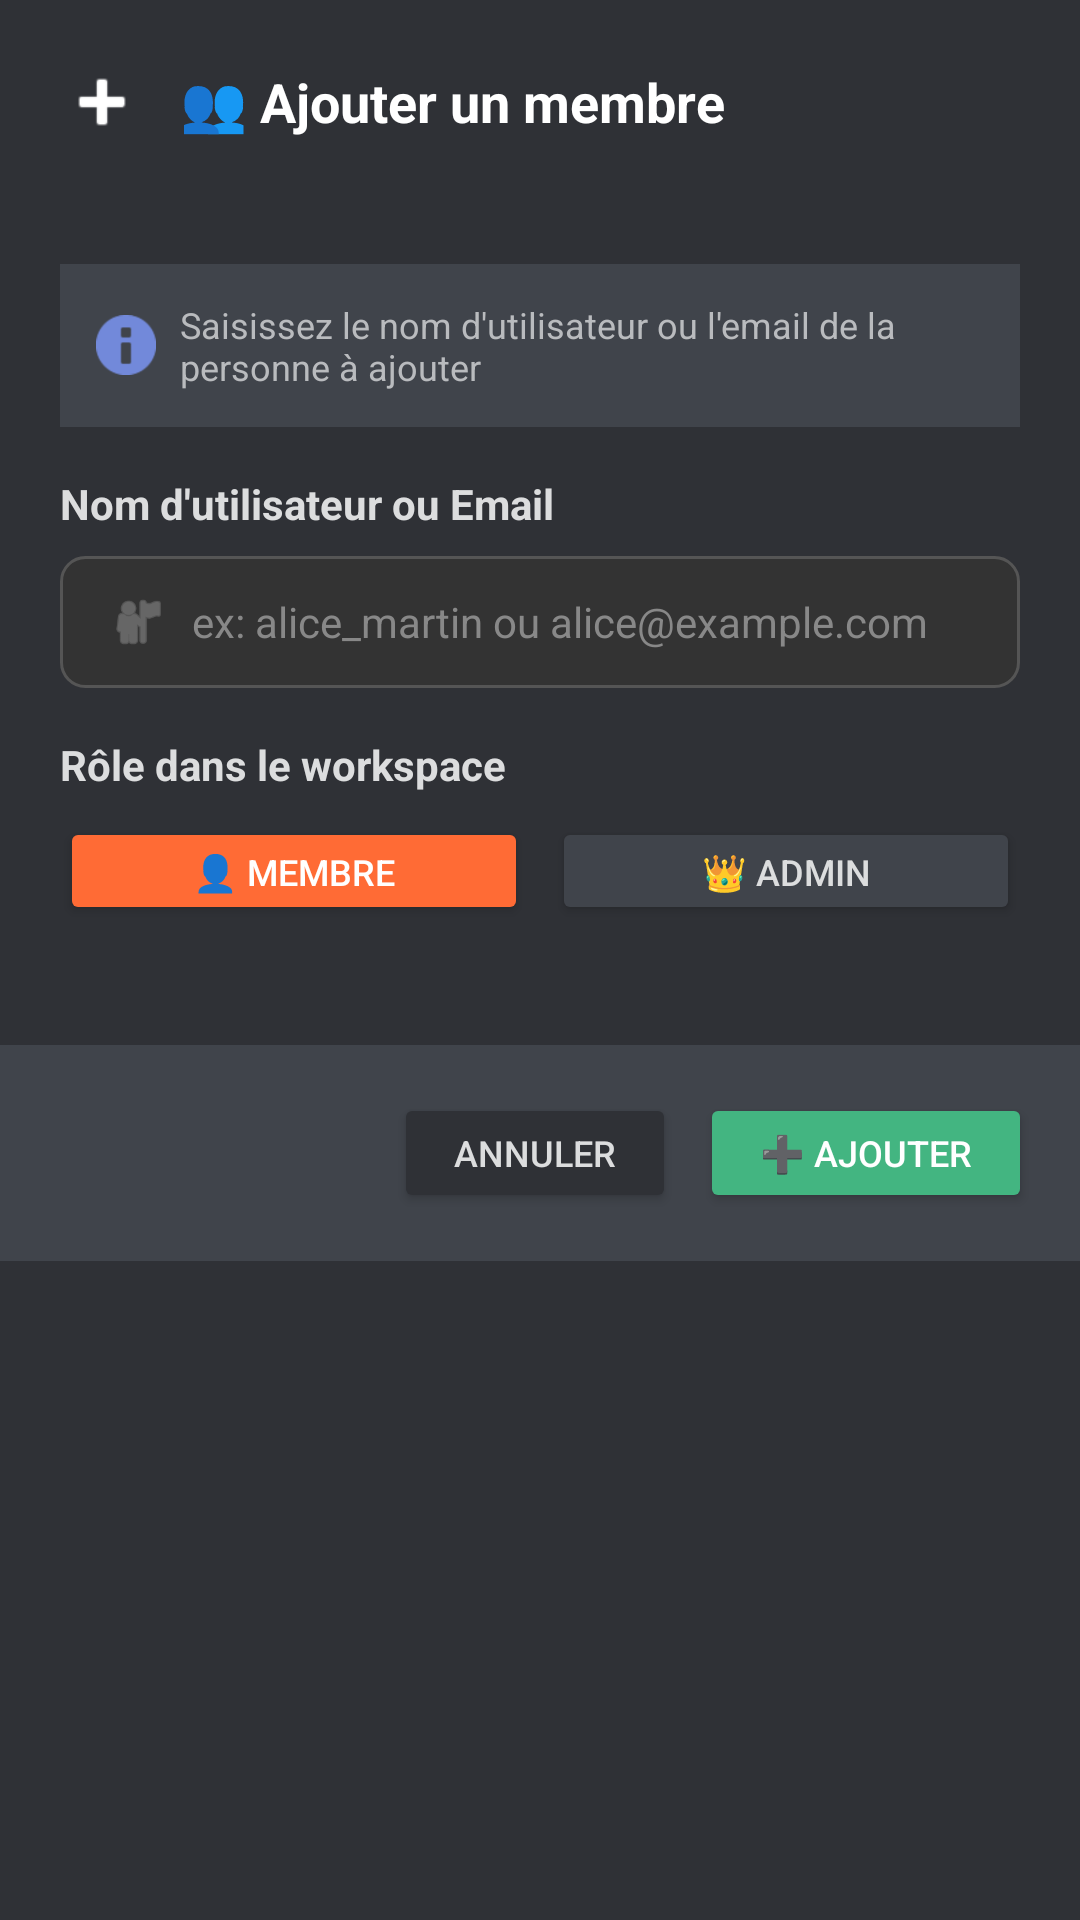

Point at icon controls on the screen. Image size 1080w x 1920h, points as (x,y).
add: (102,102)
info: (126,345)
myplaces: (139,622)
